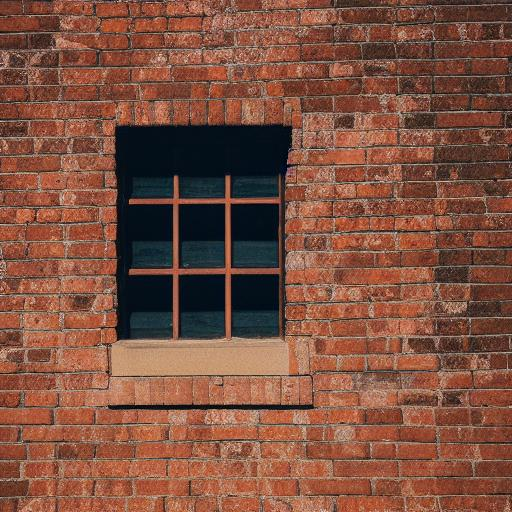Window: (107, 101, 318, 413)
